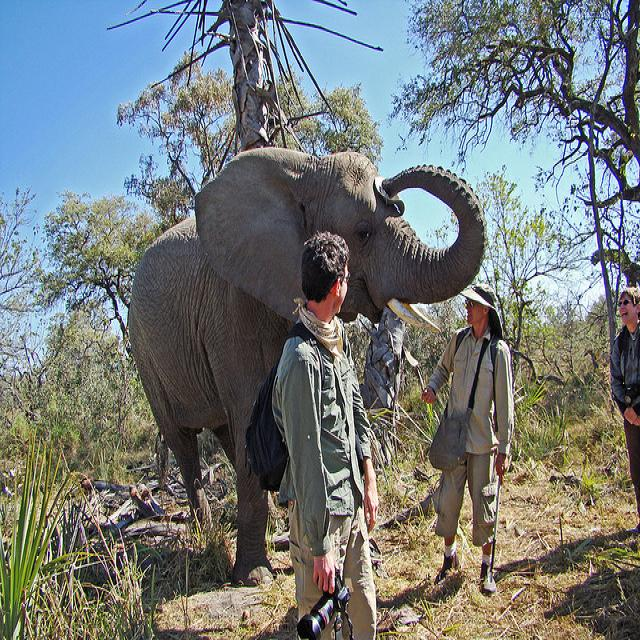Elephant: (126, 145, 487, 587)
person: (270, 231, 379, 638), (421, 283, 514, 592), (609, 286, 639, 534)
